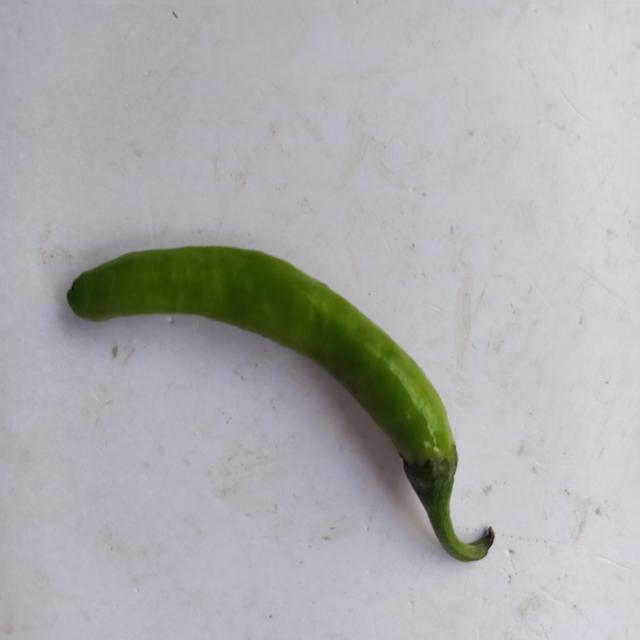Green Chilly: (66, 246, 495, 561)
